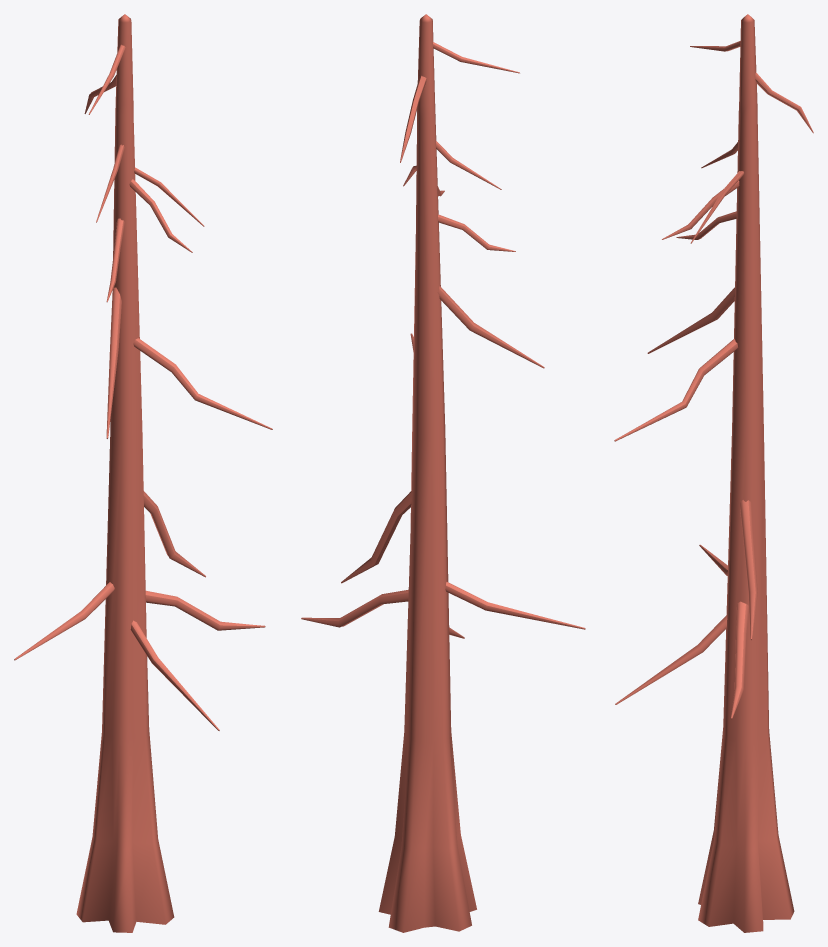
File: Deadtree_2_Terrain.fbx
3 views of the same model, side by side, from view 1: azimuth 30°, elevation 25°; view 2: azimuth 150°, elevation 25°; view 3: azimuth 270°, elevation 25° (orthographic).
Visible parts, largest first — view 1: pCube76; view 2: pCube76; view 3: pCube76.
Part boxes in pixels (<box>): pCube76: <box>14,14,272,932</box>; pCube76: <box>301,14,585,932</box>; pCube76: <box>614,14,813,932</box>.
Size of the model in its own units: 1.31 by 4.2 by 0.8457.
